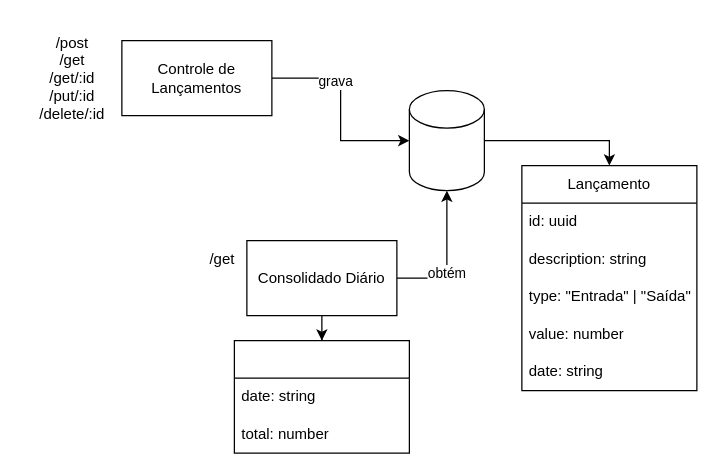
Some shapes in this 719 by 475 pixel diagram are drawn without their labels. The shapes that lost their labels are listed below. From the top down, each one's box as (x1, y1, x2, y2) in pixels, then its label:
(408, 89, 484, 191): MongoDB caixa
(233, 339, 409, 453): Item Relatório
